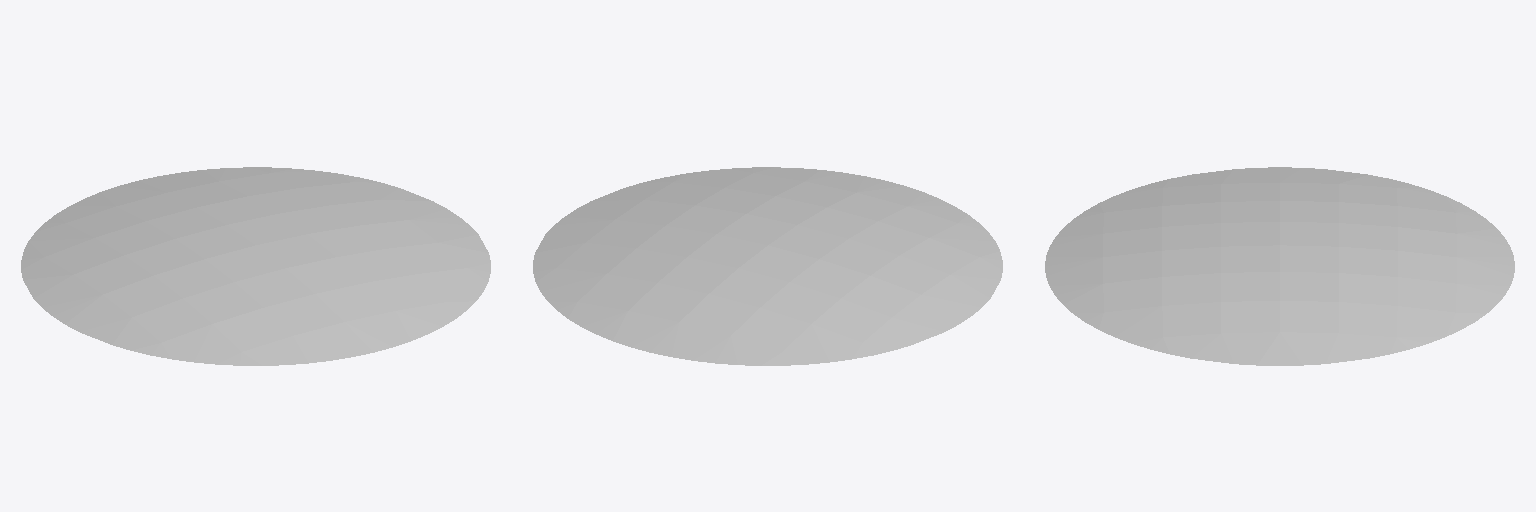
Rendered from compass_glass.obj.
3 renders of one model, left to right at view 1: azimuth 30°, elevation 25°; view 2: azimuth 150°, elevation 25°; view 3: azimuth 270°, elevation 25°, orthographic.
Parts seen in each view (by area): view 1: compass_glass_compass.001; view 2: compass_glass_compass.001; view 3: compass_glass_compass.001.
Boxes of the visible parts, x1,y1,x2,y2 form: compass_glass_compass.001: [21, 167, 490, 365]; compass_glass_compass.001: [533, 167, 1002, 365]; compass_glass_compass.001: [1045, 167, 1514, 365].
Size of the model in its own units: 20 by 1 by 20.